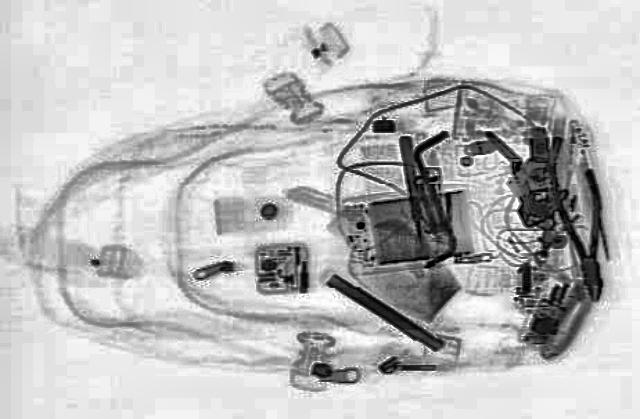Pliers: (539, 133, 619, 301)
